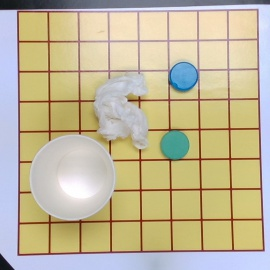blue: (170, 61, 198, 91)
cup: (29, 135, 116, 221)
green: (161, 131, 189, 159)
